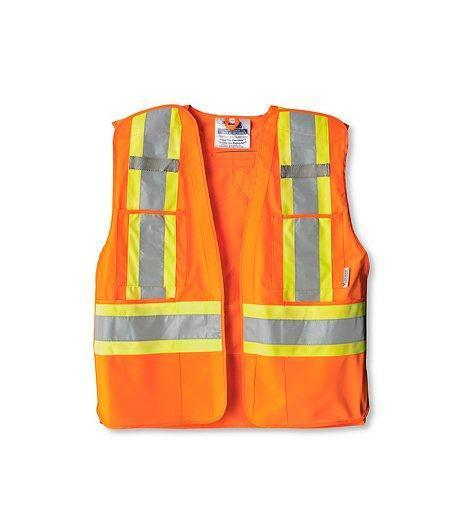vest: (94, 99, 372, 431)
